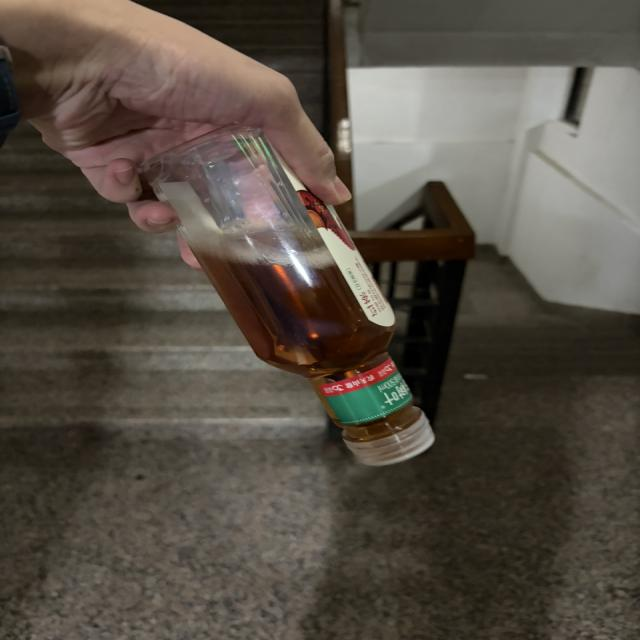medium: (141, 125, 433, 466)
